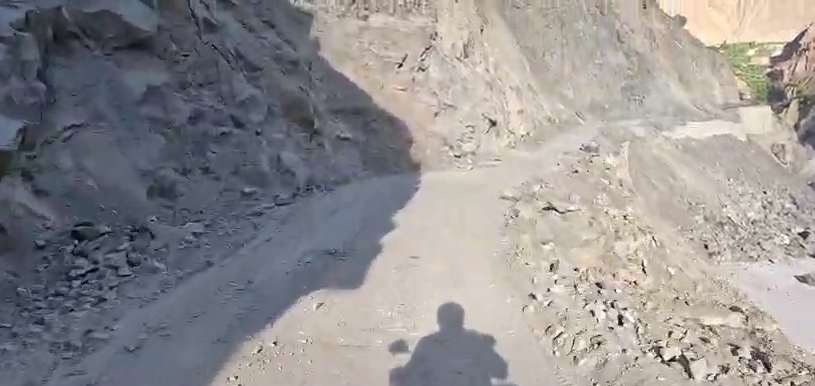unexpected: (381, 76, 783, 313)
